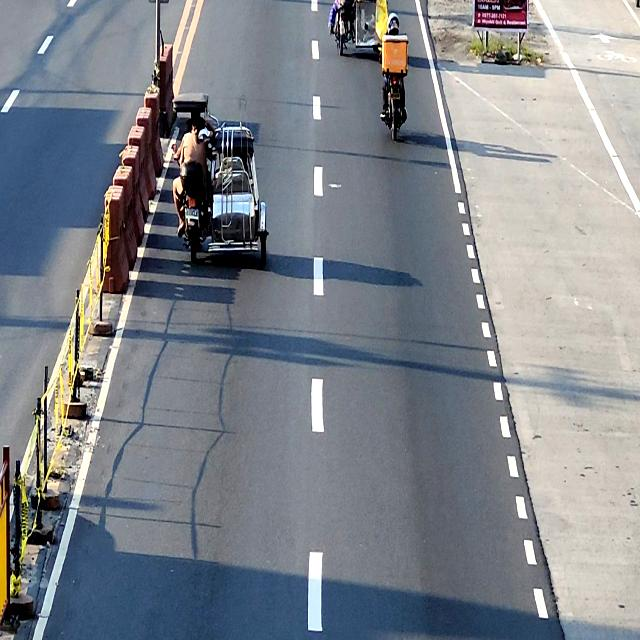License-Plate: (185, 208, 199, 219), (390, 92, 400, 100)
Motorcycle: (377, 40, 409, 140)
Tricycle: (171, 94, 268, 266), (336, 0, 388, 57)
